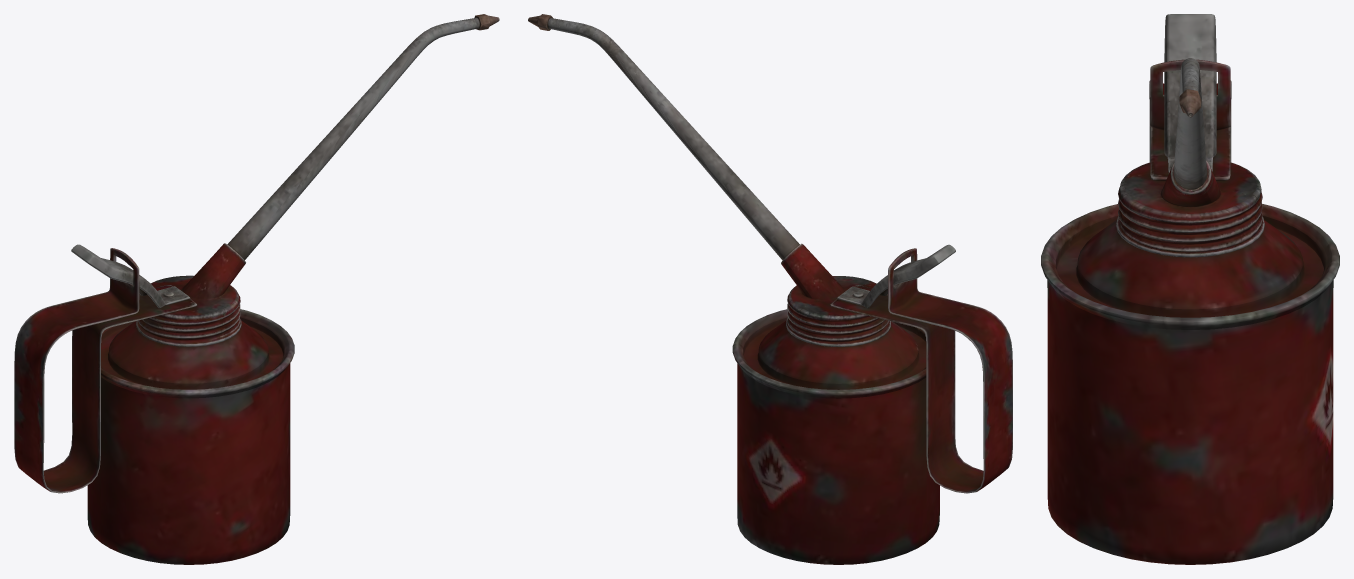
File: small_oil_can_01.85f58eb4.glb
3 renders of one model, left to right at view 1: azimuth 30°, elevation 25°; view 2: azimuth 150°, elevation 25°; view 3: azimuth 270°, elevation 25°, orthographic. The views are drawn at different scales.
Parts seen in each view (by area): view 1: small_oil_can_01; view 2: small_oil_can_01; view 3: small_oil_can_01.
Boxes of the visible parts, x1,y1,x2,y2 form: small_oil_can_01: (14, 14, 499, 564); small_oil_can_01: (528, 14, 1012, 564); small_oil_can_01: (1041, 14, 1339, 564).
Bounding box in the file's own units: 0.95 × 0.8455 × 0.3708.
Materials: 1 (1 with a texture image).
